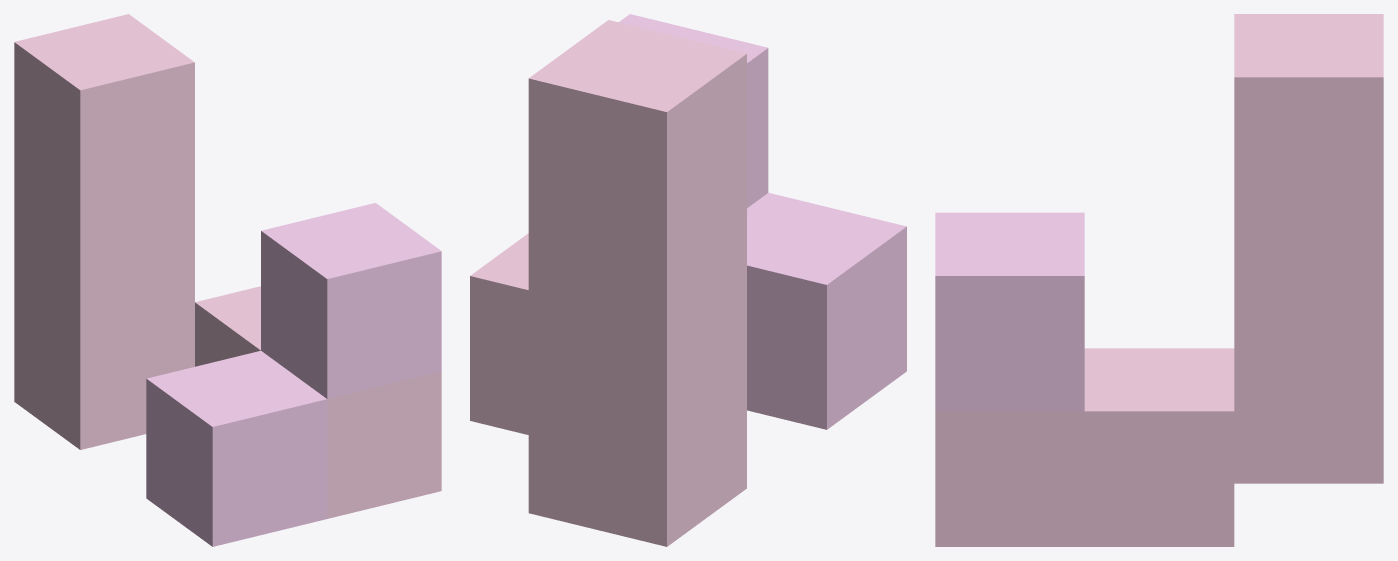
Rendered from tile-25.obj.
3 renders of one model, left to right at view 1: azimuth 30°, elevation 25°; view 2: azimuth 150°, elevation 25°; view 3: azimuth 270°, elevation 25°, orthographic. The views are drawn at different scales.
Size of the model in its own units: 0.2 by 0.3 by 0.3.
